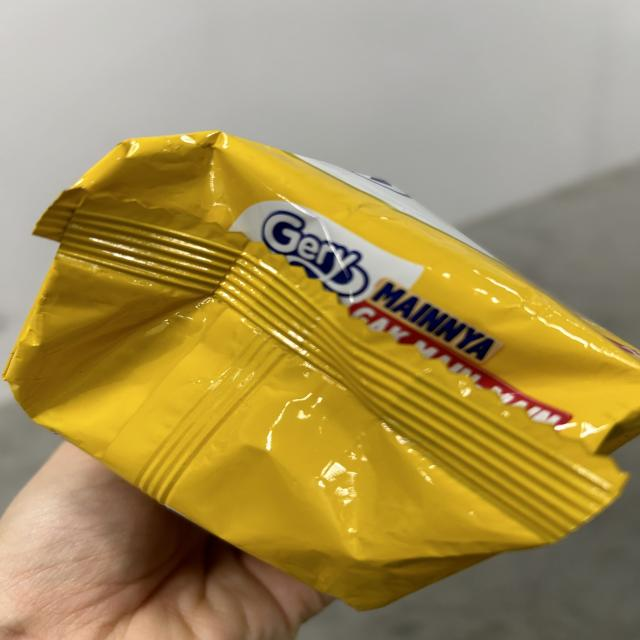object_name: (98, 143, 568, 565)
